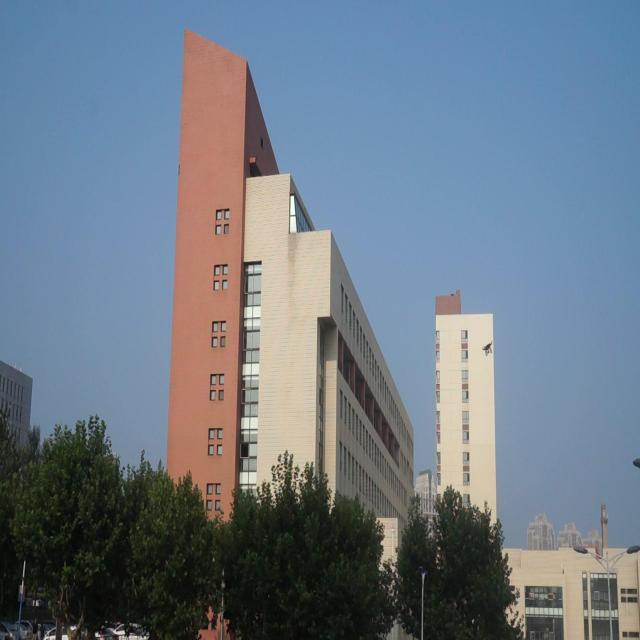drone: (481, 340, 495, 354)
